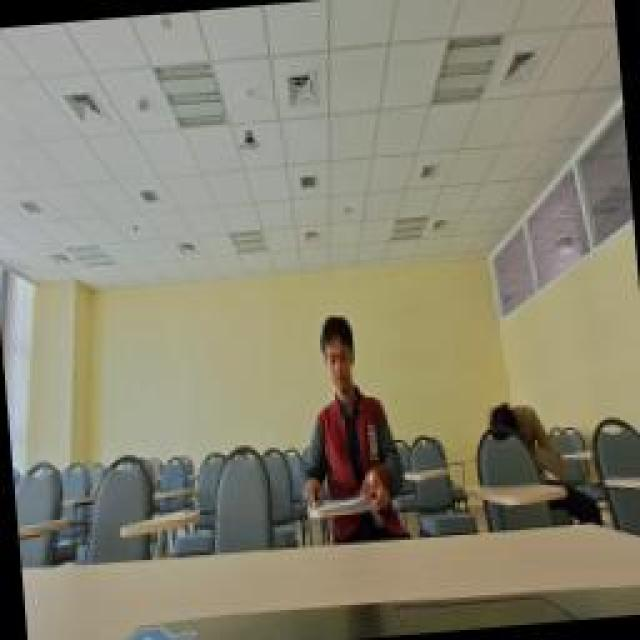sleep: (485, 395, 570, 500)
study: (290, 308, 405, 548)
